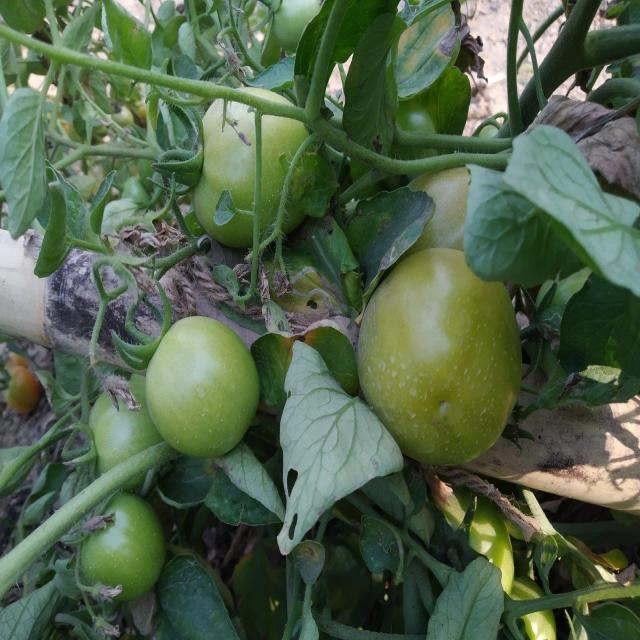Unripe: (357, 244, 526, 471), (190, 84, 315, 243), (144, 314, 258, 464)
